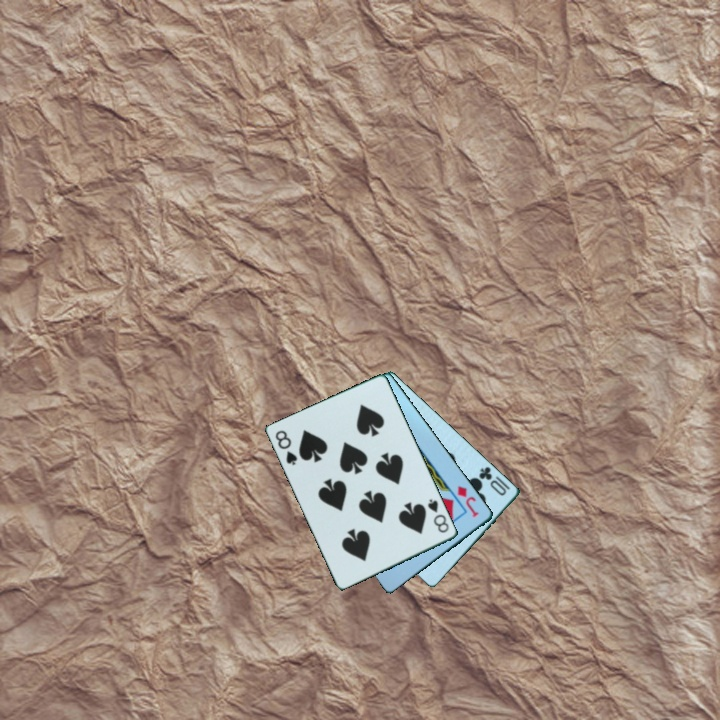10c: (475, 463, 510, 499)
8s: (272, 427, 301, 468), (424, 495, 452, 536)
Jd: (454, 482, 482, 520)
